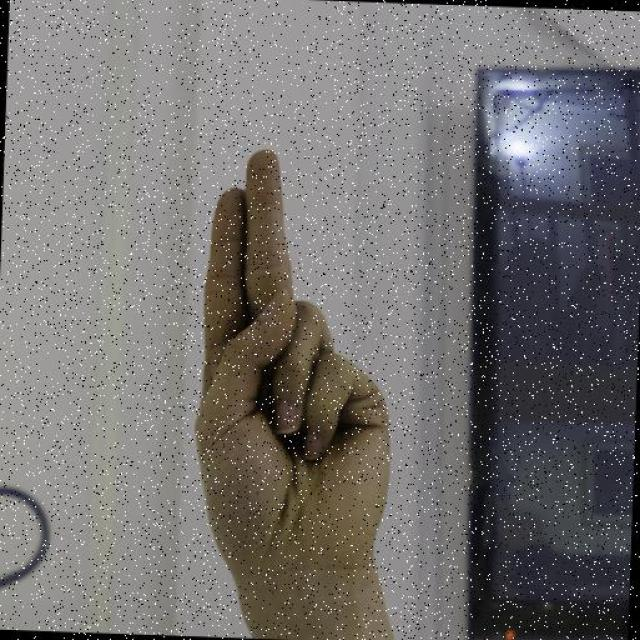U: (189, 139, 409, 580)
